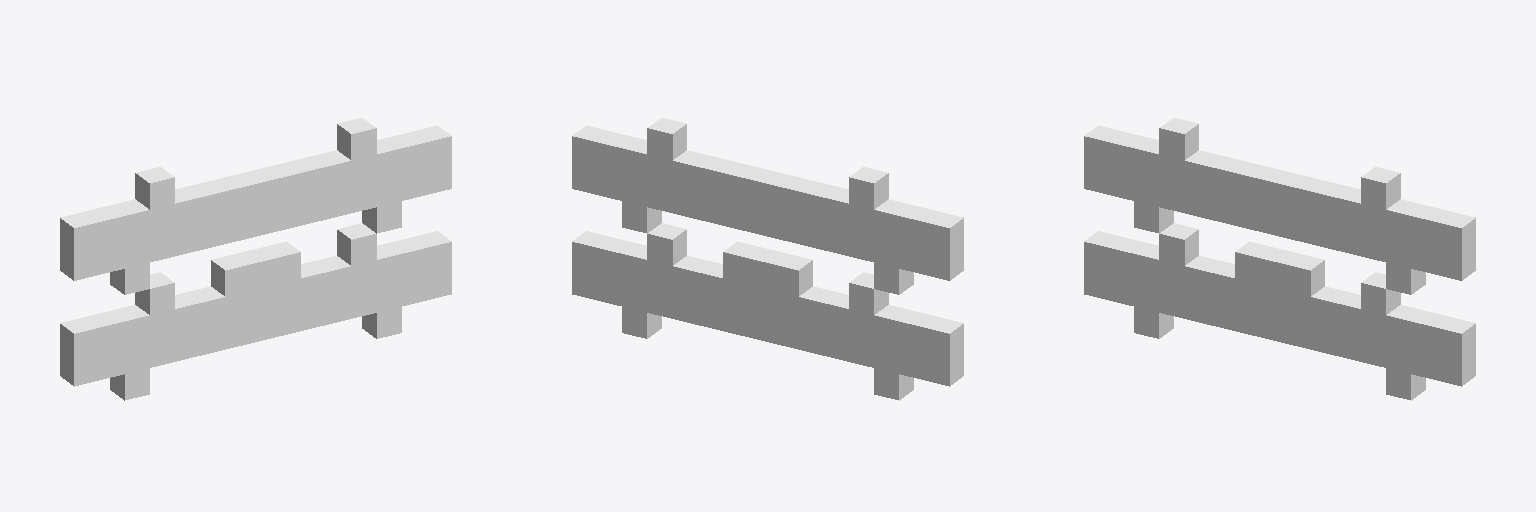
Rendered from MazeGreen2StairsTreasure.vox.obj.
The picture shows the model from 3 angles: view 1: azimuth 30°, elevation 25°; view 2: azimuth 150°, elevation 25°; view 3: azimuth 330°, elevation 25°; orthographic projection.
Visible parts, largest first — view 1: object 1; view 2: object 1; view 3: object 1.
Boxes of the visible parts, x1,y1,x2,y2 form: object 1: [60, 118, 451, 400]; object 1: [572, 118, 963, 400]; object 1: [1084, 118, 1475, 400].
Bounding box in the file's own units: 1.5 × 0.8 × 0.1.